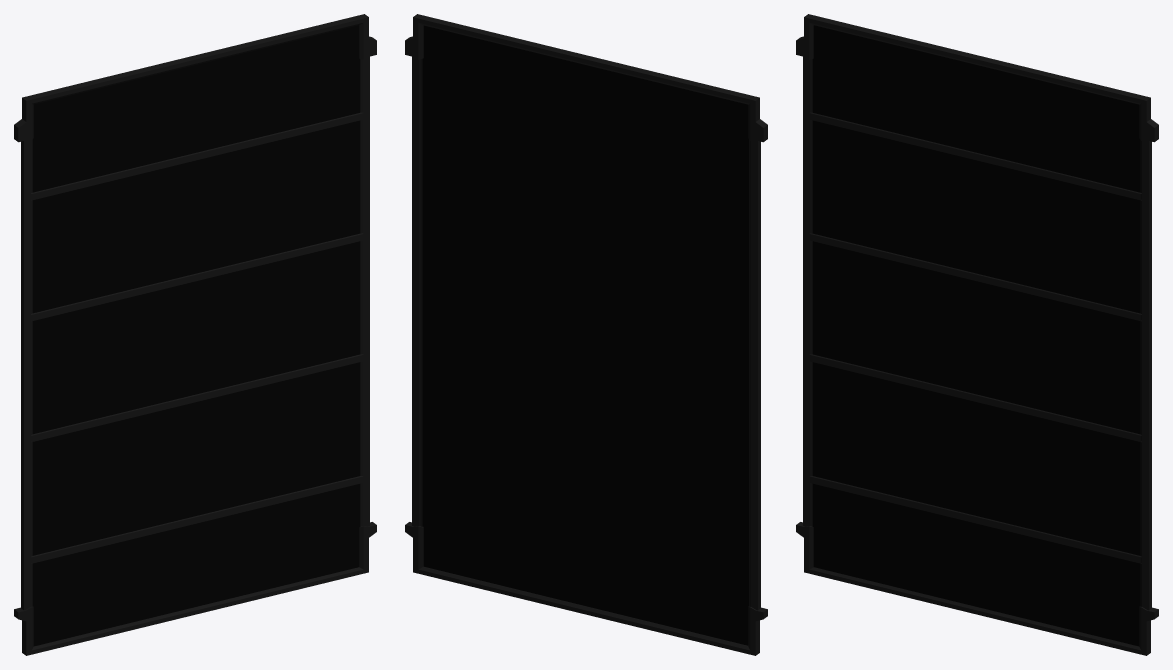
File: Arena_01.fbx
3 views of the same model, side by side, from view 1: azimuth 30°, elevation 25°; view 2: azimuth 150°, elevation 25°; view 3: azimuth 330°, elevation 25° (orthographic).
Visible parts, largest first — view 1: SM_Sign_Billboard_Large_01; view 2: SM_Sign_Billboard_Large_01; view 3: SM_Sign_Billboard_Large_01.
Boxes of the visible parts, box(x1,y1,x2,y2) form: SM_Sign_Billboard_Large_01: box(14, 14, 376, 655); SM_Sign_Billboard_Large_01: box(405, 14, 767, 655); SM_Sign_Billboard_Large_01: box(796, 14, 1158, 655).
Bounding box in the file's own units: 32.81 × 48.55 × 0.7042.
